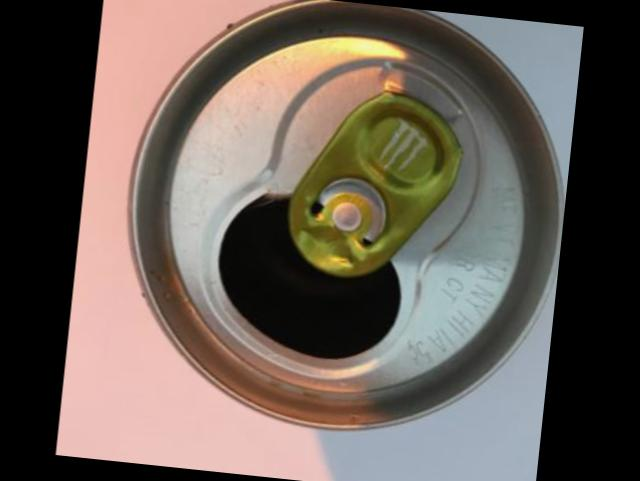metal: (128, 0, 559, 429)
